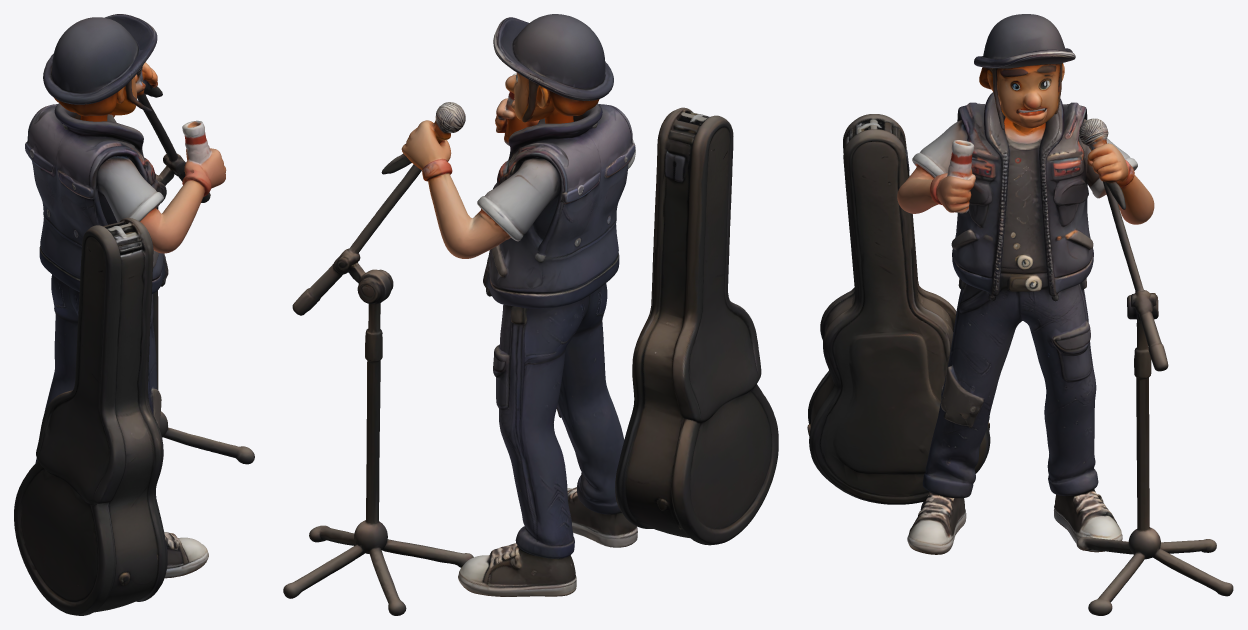
File: plaza-street-performer.glb
The picture shows the model from 3 angles, left to right: view 1: azimuth 30°, elevation 25°; view 2: azimuth 150°, elevation 25°; view 3: azimuth 270°, elevation 25°; orthographic projection. The views are drawn at different scales.
Parts seen in each view (by area): view 1: tripo_node_f1e446a0-f3f8-4f18-9b1a-0c539e408469; view 2: tripo_node_f1e446a0-f3f8-4f18-9b1a-0c539e408469; view 3: tripo_node_f1e446a0-f3f8-4f18-9b1a-0c539e408469.
Boxes of the visible parts, x1,y1,x2,y2 form: tripo_node_f1e446a0-f3f8-4f18-9b1a-0c539e408469: (14,14,254,615); tripo_node_f1e446a0-f3f8-4f18-9b1a-0c539e408469: (283,14,778,615); tripo_node_f1e446a0-f3f8-4f18-9b1a-0c539e408469: (807,14,1233,615).
Size of the model in its own units: 1.09 by 1.8 by 1.35.
Materials: 1 (1 with a texture image).
